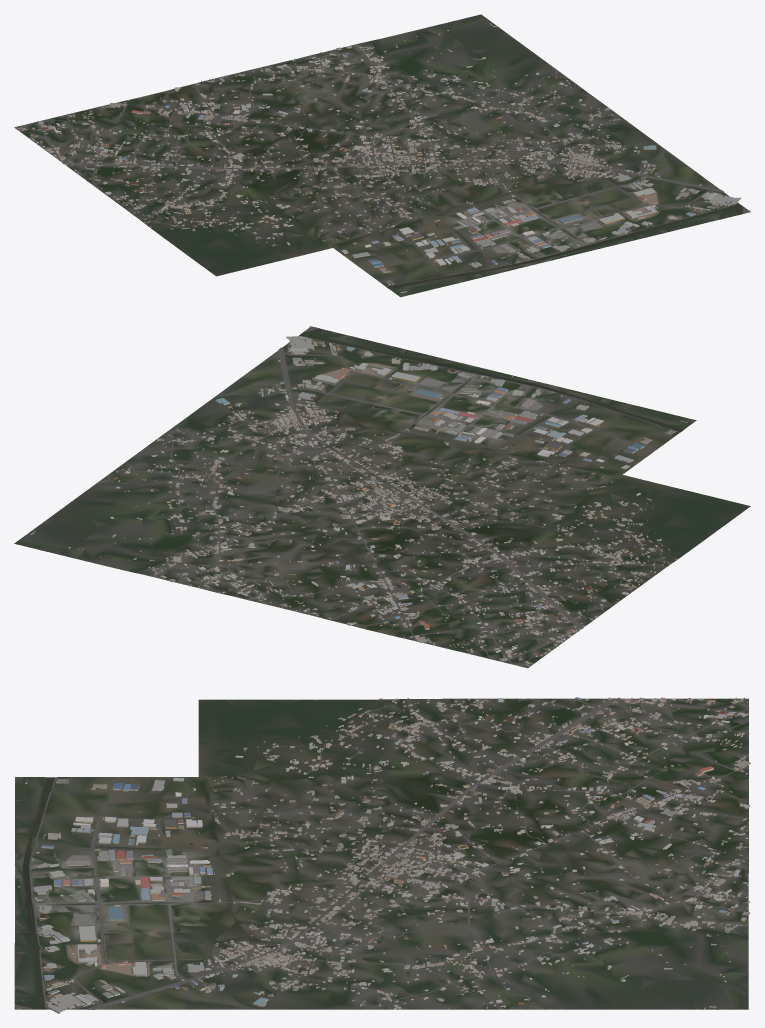
3 views of the same model, one above another, from view 1: azimuth 30°, elevation 25°; view 2: azimuth 150°, elevation 25°; view 3: azimuth 270°, elevation 25° (orthographic). The views are drawn at different scales.
Parts seen in each view (by area): view 1: ground, buildings, roads, water; view 2: ground, buildings, roads, water; view 3: ground, buildings, roads, water.
Part boxes in pixels (left/top/right/bottom): ground: left=14, top=14, right=750, bottom=297; buildings: left=15, top=23, right=750, bottom=293; roads: left=17, top=44, right=748, bottom=286; water: left=386, top=39, right=742, bottom=288; ground: left=14, top=326, right=750, bottom=668; buildings: left=30, top=326, right=687, bottom=666; roads: left=97, top=327, right=680, bottom=667; water: left=108, top=329, right=683, bottom=558; ground: left=14, top=698, right=748, bottom=1009; buildings: left=16, top=697, right=750, bottom=1013; roads: left=14, top=698, right=749, bottom=1009; water: left=15, top=777, right=728, bottom=1009.
Bounding box in the file's own units: 5681 × 39.53 × 5626.
